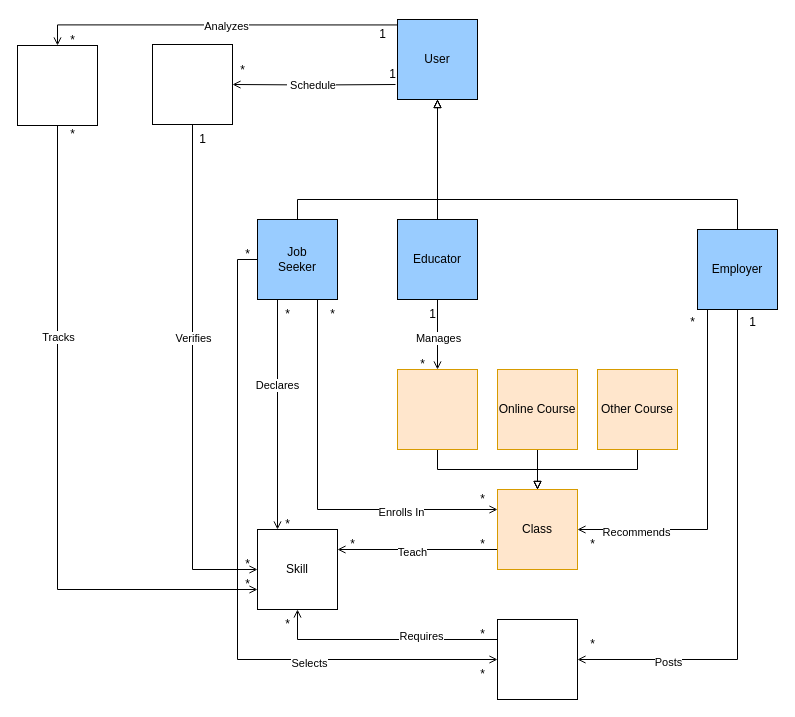
The diagram is 795 pixels wide and 717 high, and some of its shapes have lost their labels. Each missing label, with the centre of its shape:
Analytics: point (57, 85)
College Course: point (437, 409)
Interview Meeting: point (192, 84)
Job: point (537, 659)
